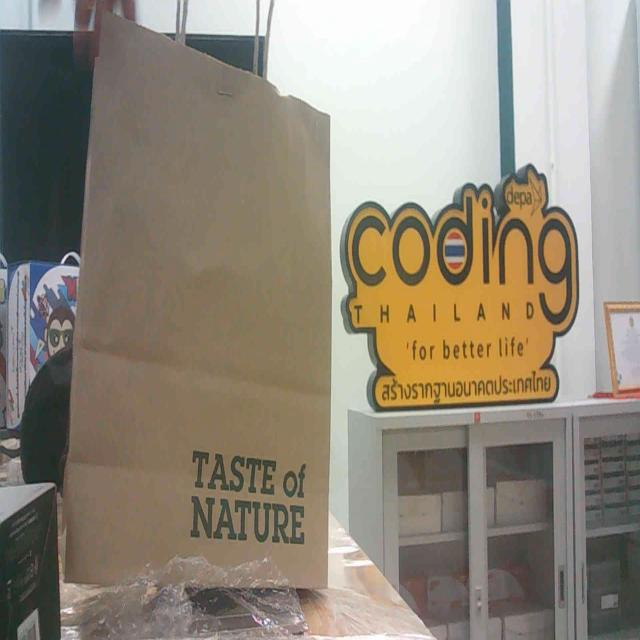bag: (100, 12, 324, 620)
